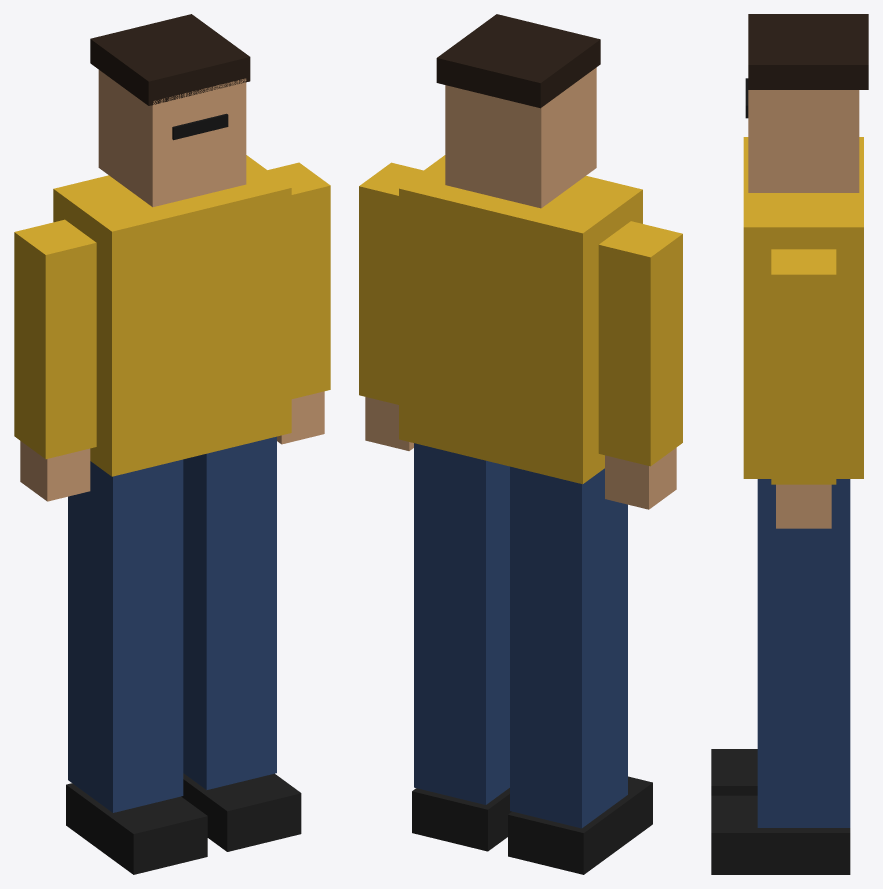
File: player.glb
The picture shows the model from 3 angles, left to right: view 1: azimuth 30°, elevation 25°; view 2: azimuth 150°, elevation 25°; view 3: azimuth 270°, elevation 25°; orthographic projection. The views are drawn at different scales.
Parts seen in each view (by area): view 1: torso, leg_r, leg_l, head, arm_r, arm_l; view 2: torso, leg_r, leg_l, head, arm_r, arm_l; view 3: leg_l, head, torso, arm_l, leg_r.
Part boxes in pixels (x1,y1,x2,y2): torso: (53, 155, 291, 476); leg_r: (66, 459, 207, 874); leg_l: (181, 436, 301, 851); head: (90, 14, 250, 207); arm_r: (14, 219, 96, 501); arm_l: (267, 162, 330, 444); torso: (399, 155, 642, 484); leg_r: (508, 466, 652, 874); leg_l: (412, 443, 511, 851); head: (436, 14, 600, 208); arm_r: (598, 221, 682, 509); arm_l: (359, 162, 423, 450); leg_l: (711, 479, 850, 874); head: (745, 14, 868, 192); torso: (743, 137, 863, 478); arm_l: (771, 249, 836, 528); leg_r: (711, 749, 757, 795).
Bounding box in the file's own units: 0.73 × 1.89 × 0.34.
